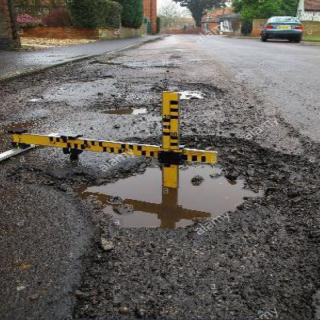pothole: (10, 131, 320, 320), (153, 79, 228, 102), (90, 94, 151, 118)
